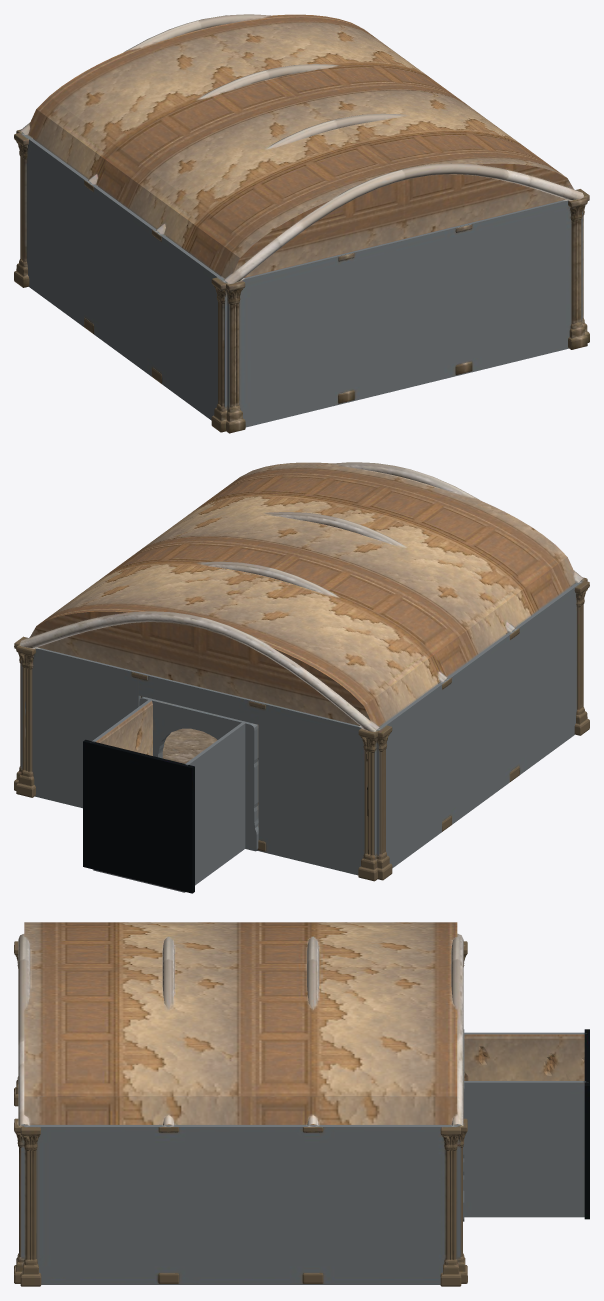
File: room.glb
The picture shows the model from 3 angles, top to bottom: view 1: azimuth 30°, elevation 25°; view 2: azimuth 150°, elevation 25°; view 3: azimuth 270°, elevation 25°; orthographic projection. The views are drawn at different scales.
Parts seen in each view (by area): view 1: OFFICE; view 2: OFFICE; view 3: OFFICE.
Boxes of the visible parts, x1,y1,x2,y2 form: OFFICE: (14,14,589,433); OFFICE: (14,462,589,893); OFFICE: (14,922,589,1286).
Bounding box in the file's own units: 10.48 × 5.95 × 13.3.
1 material, 1 textured.
